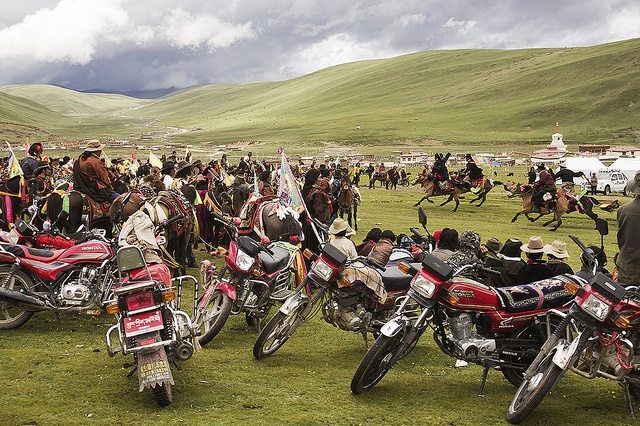non-vehicle: (352, 209, 576, 397), (505, 235, 640, 421), (252, 217, 422, 360), (97, 208, 201, 413), (192, 212, 300, 348), (0, 227, 116, 328), (8, 205, 94, 248), (45, 210, 94, 244), (397, 172, 411, 187)
